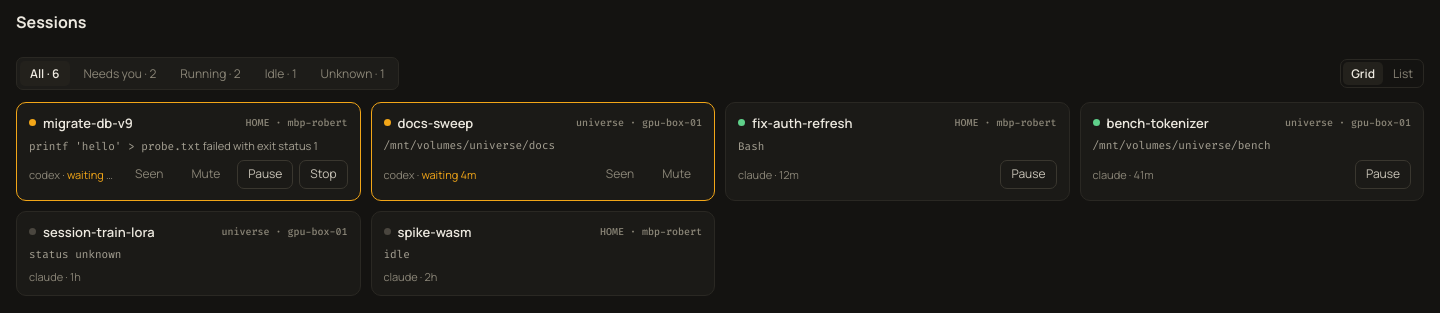
Test: the session list › says why beside the button when the hub refuses the stop
This screenshot has width=1440, height=313.
Step 1. Click the button "Stop" → (323, 174), box [299,160,348,189]
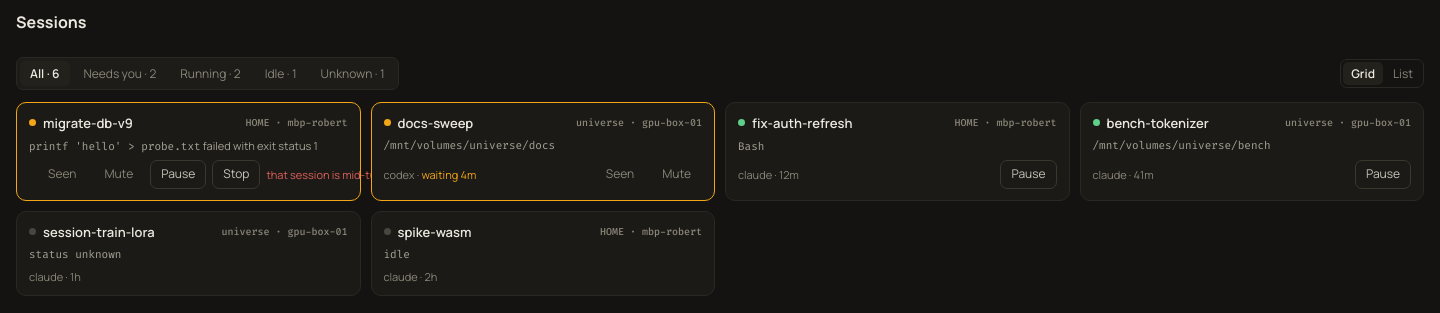
Expected: the button "Stop" is enabled, [212,160,260,189]
Expected: the text "that session is mid-turn; stopping it now could leave an edit half applied" is shown, [266,167,627,182]
